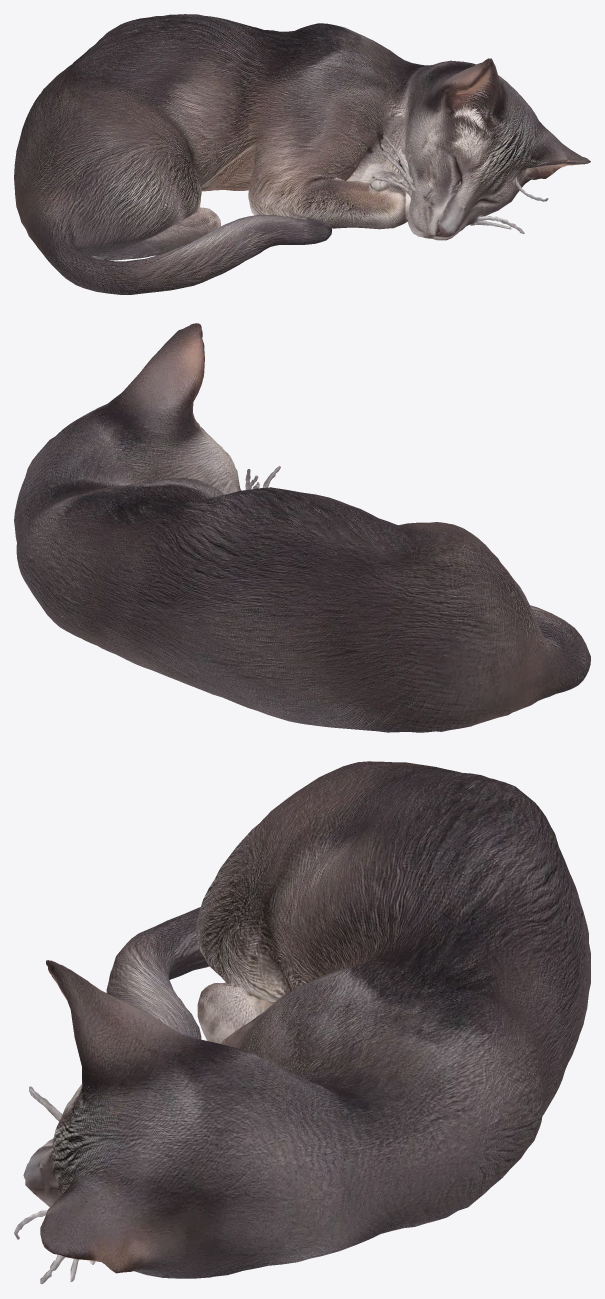
File: Yuda_cat.glb
3 renders of one model, top to bottom at view 1: azimuth 30°, elevation 25°; view 2: azimuth 150°, elevation 25°; view 3: azimuth 270°, elevation 25°, orthographic. The views are drawn at different scales.
Visible parts, largest first — view 1: Mesh_0; view 2: Mesh_0; view 3: Mesh_0.
Part boxes in pixels (bbox=[...]): Mesh_0: bbox=[14, 14, 590, 294]; Mesh_0: bbox=[14, 323, 590, 732]; Mesh_0: bbox=[14, 761, 590, 1284].
Bounding box in the file's own units: 1.91 × 0.681 × 1.19.
1 material, 1 textured.
